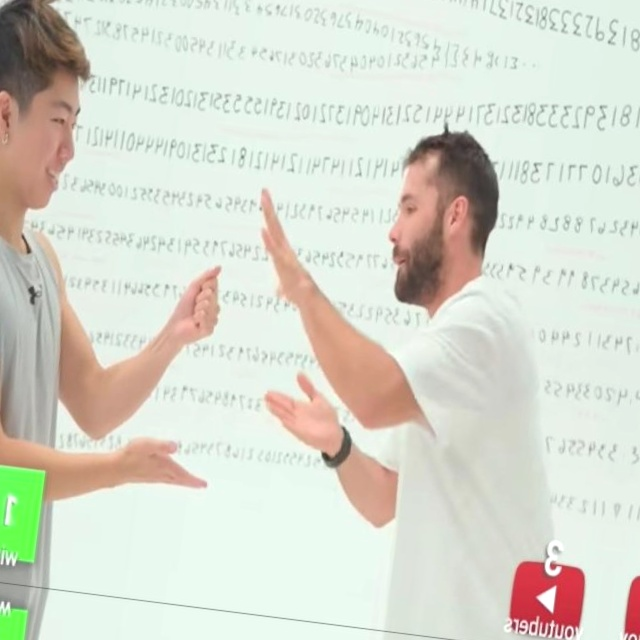Paper: (248, 187, 325, 305)
Rock: (172, 255, 227, 345)
